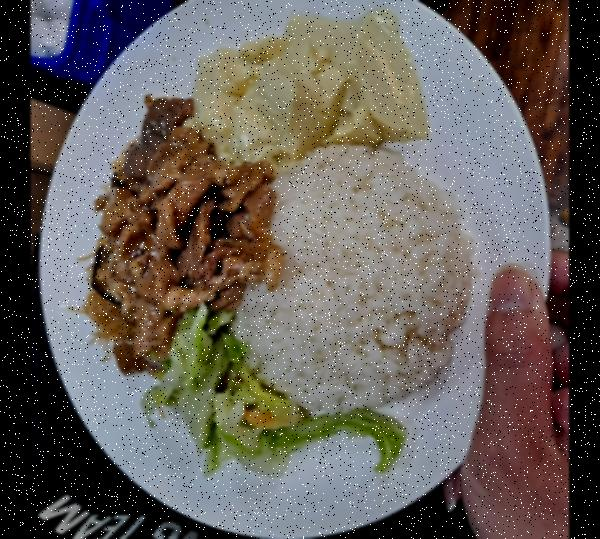big fried chicken leg: (37, 0, 556, 539)
big herbal chicken leg: (227, 149, 478, 407)
braised fish fillet: (142, 322, 404, 489), (185, 7, 424, 159)
braised pork: (84, 92, 270, 342)
